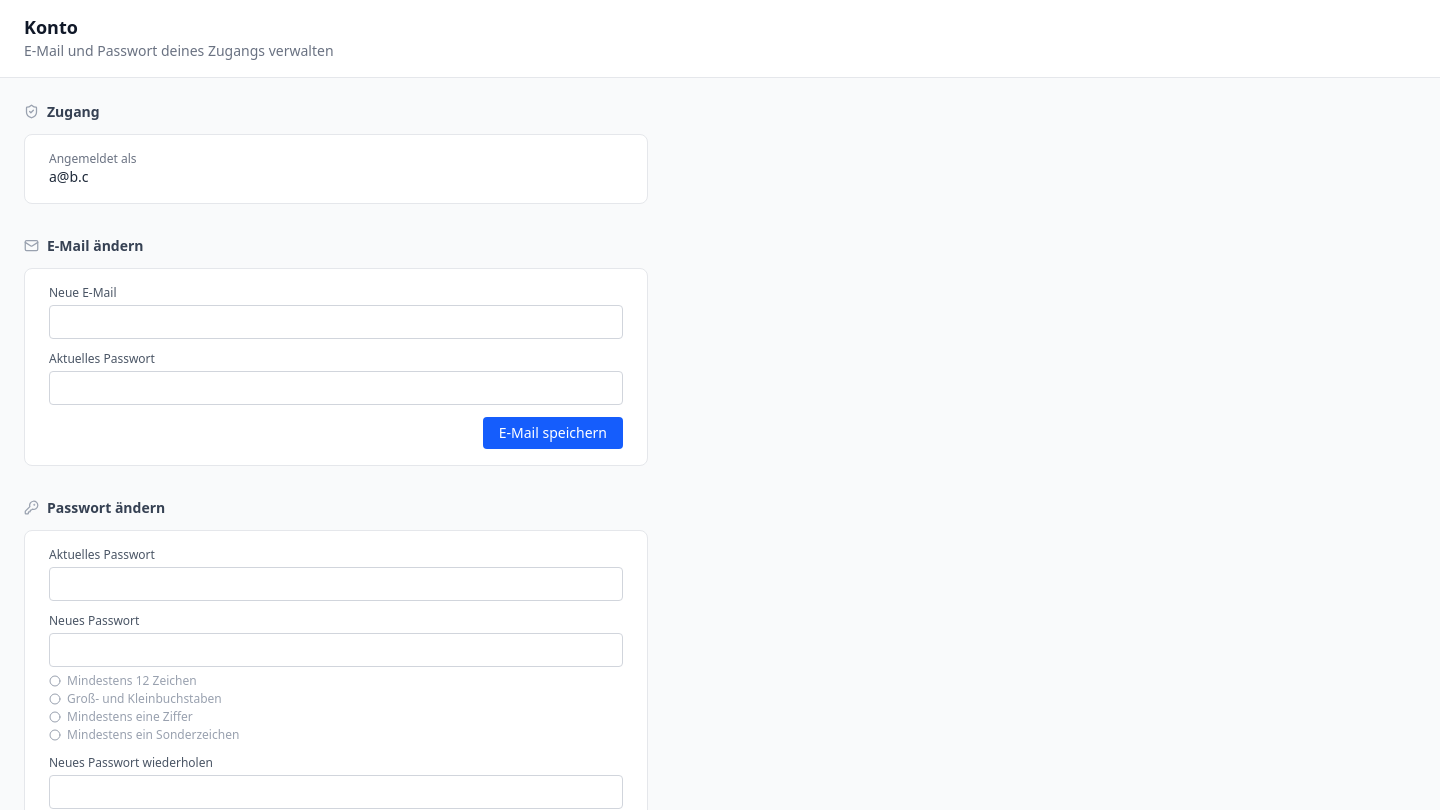
AccountPage password change › disables submit until the new password satisfies the policy
Expected: the text "Angemeldet als" is shown, [49,150,136,166]
Type "Pw123456789!" into the password field with id "acc-new-pw".
click(336, 650); type("Pw123456789!")  # box [49,632,623,666]
(page scrolled)
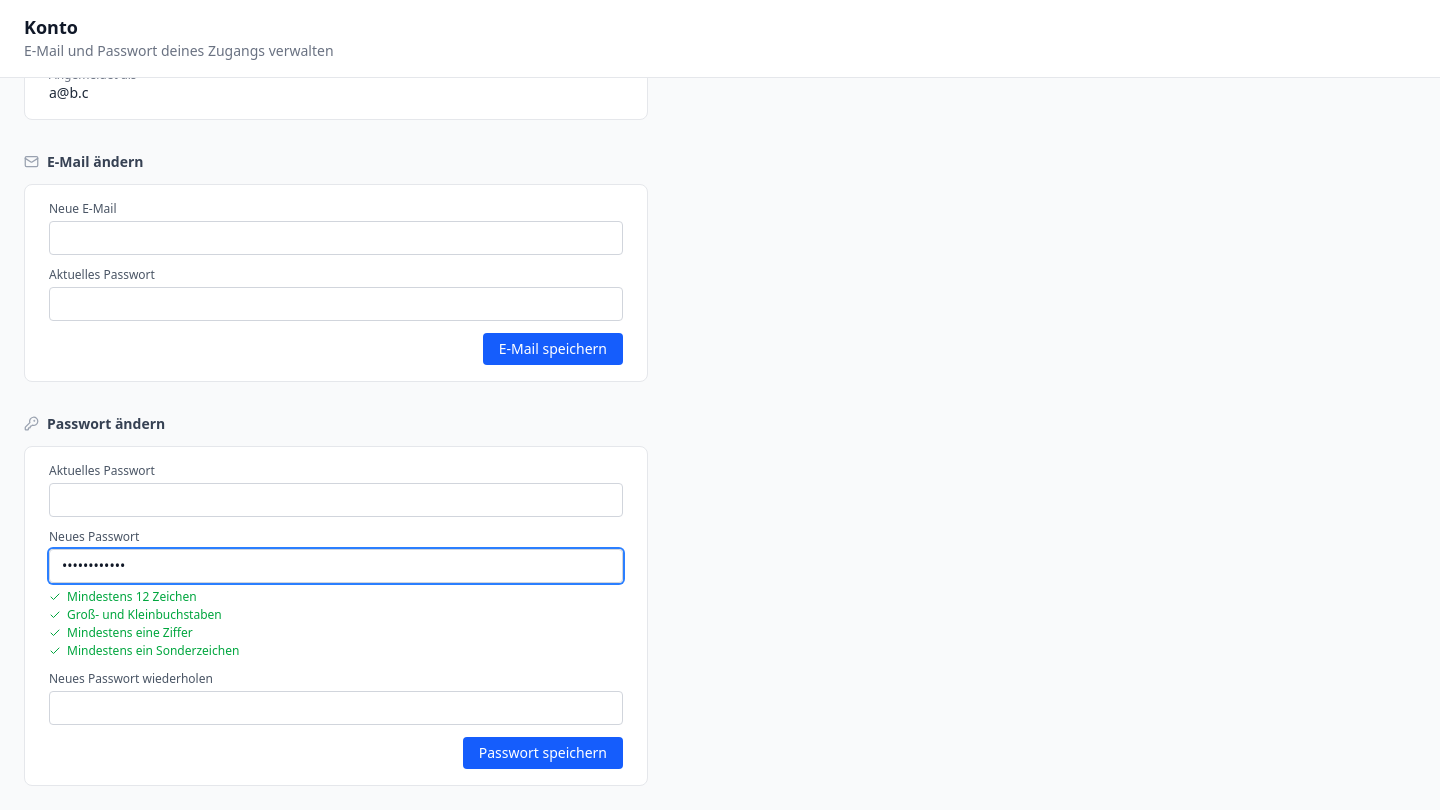
Now the button "Passwort speichern" is enabled, box [463,736,623,768]
